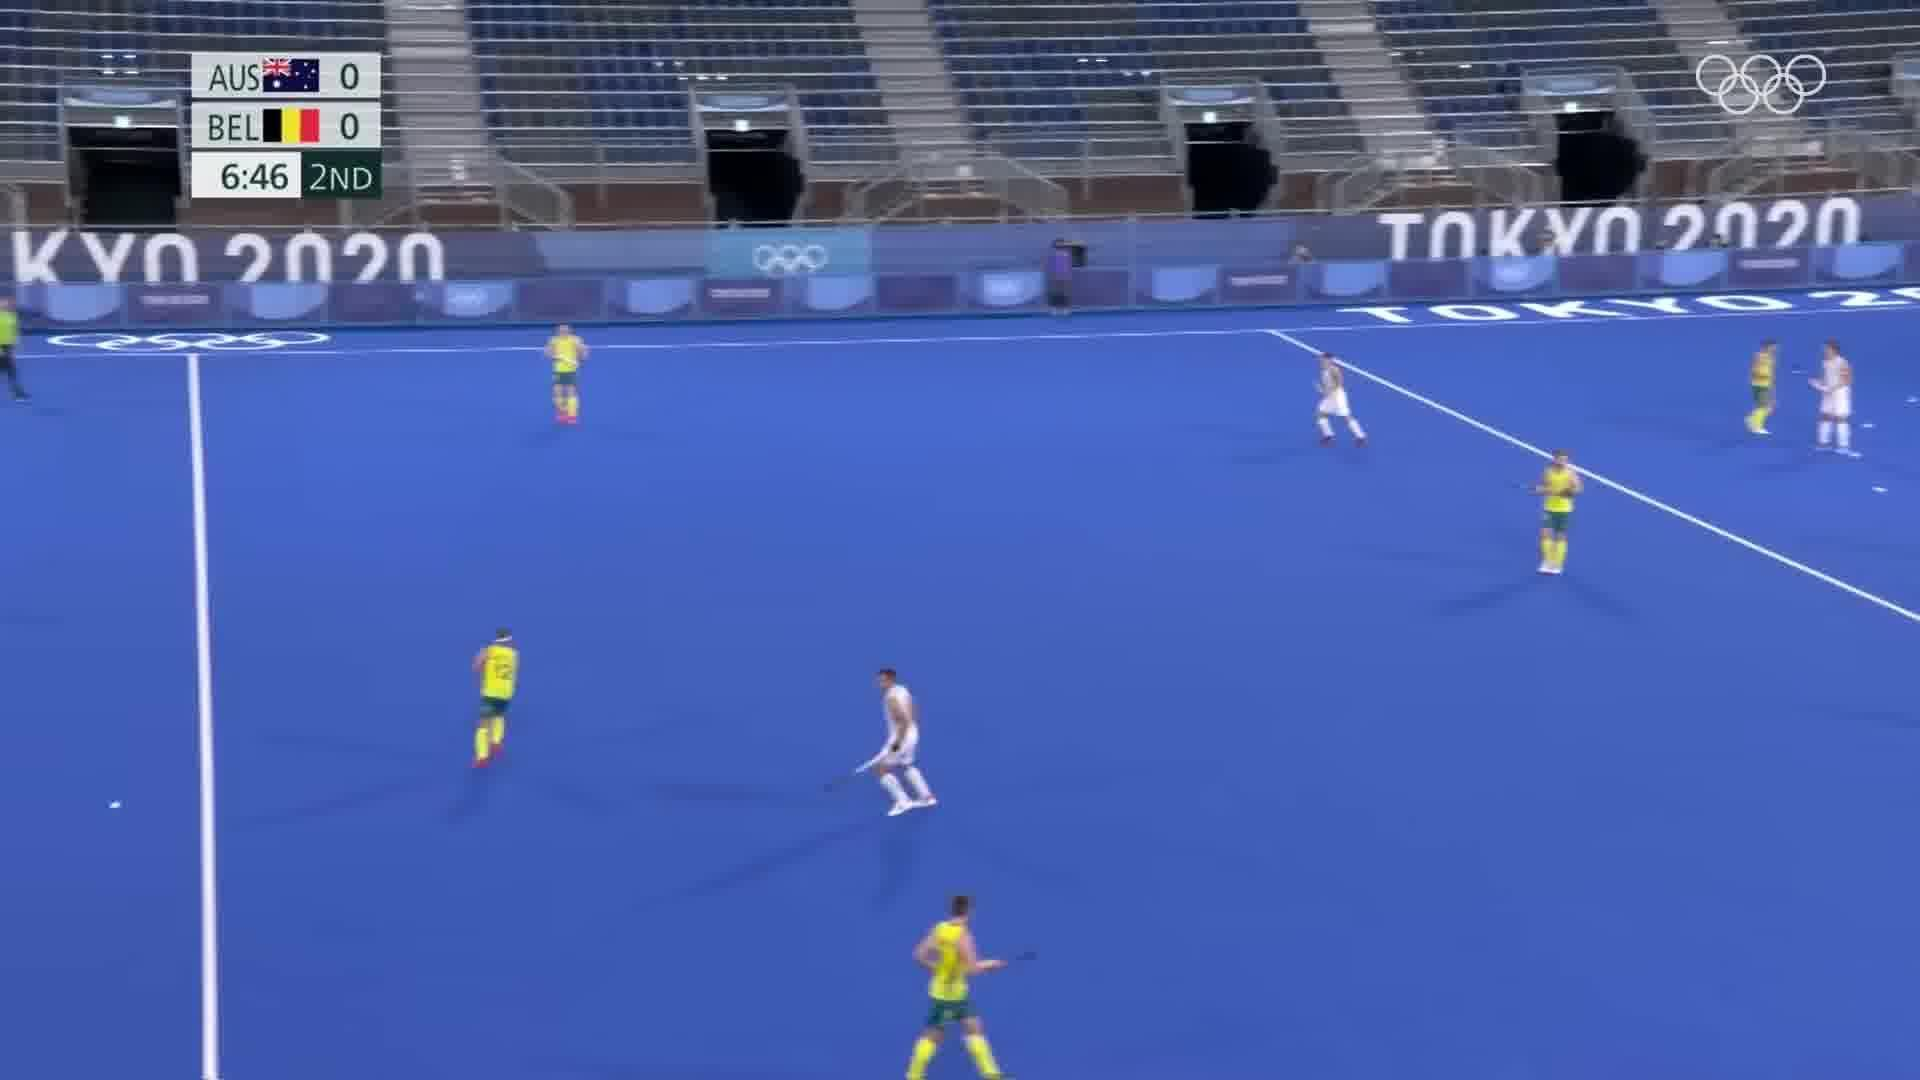ball: (99, 795, 135, 816)
